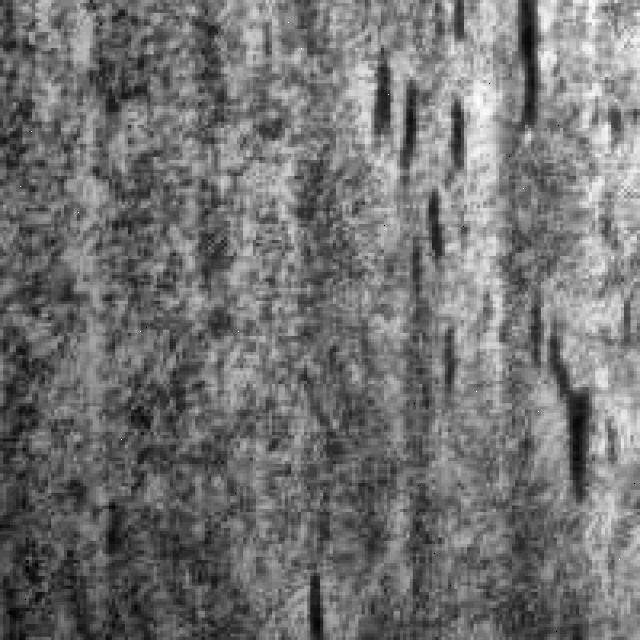Patches: (371, 0, 483, 272), (515, 278, 637, 509), (406, 179, 464, 323), (506, 0, 566, 131), (304, 556, 342, 630)
